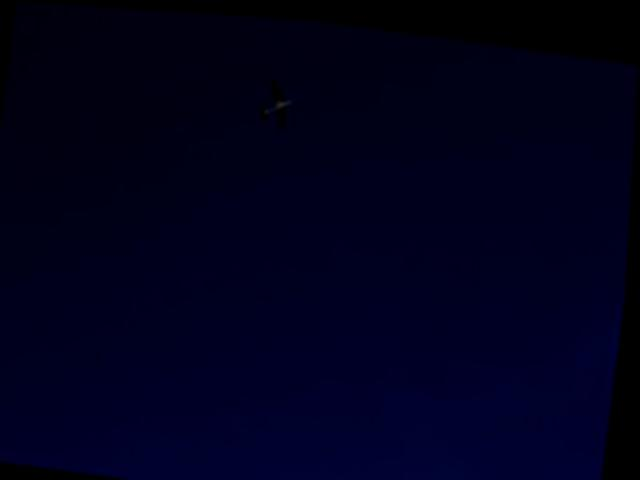uav: (258, 76, 296, 127)
